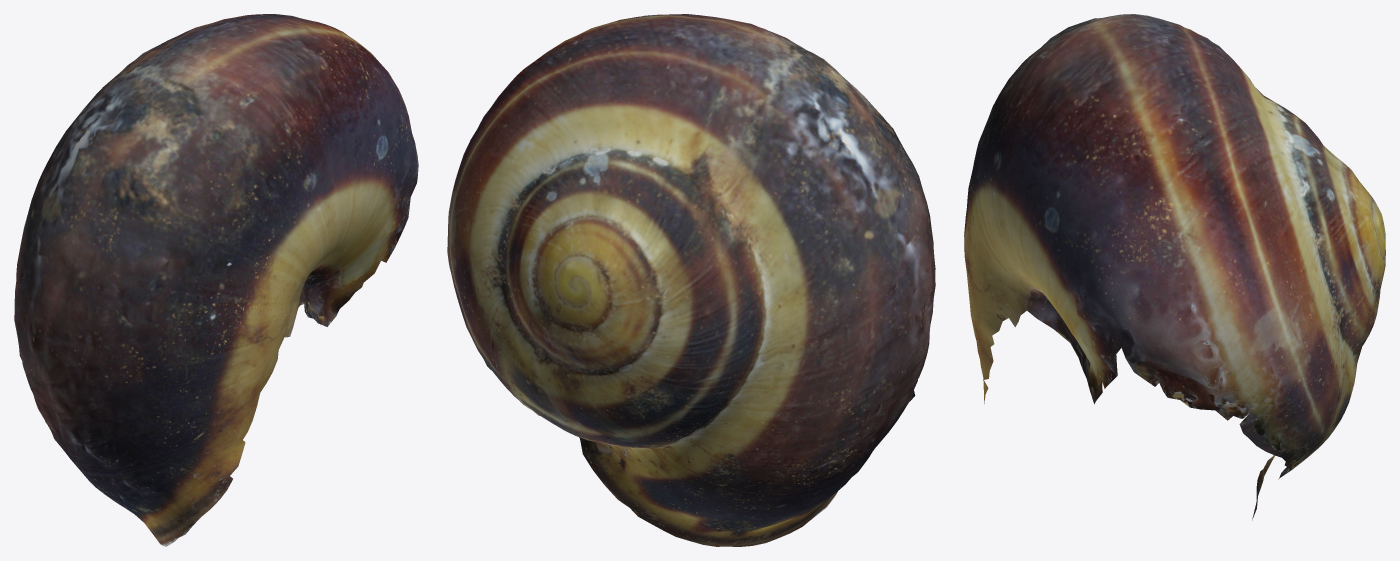
File: fauna.glb
The picture shows the model from 3 angles, left to right: view 1: azimuth 30°, elevation 25°; view 2: azimuth 150°, elevation 25°; view 3: azimuth 270°, elevation 25°; orthographic projection. The views are drawn at different scales.
Visible parts, largest first — view 1: Snail shell; view 2: Snail shell; view 3: Snail shell.
Boxes of the visible parts, left/top/right/bottom form: Snail shell: left=14, top=14, right=418, bottom=546; Snail shell: left=447, top=14, right=935, bottom=546; Snail shell: left=964, top=14, right=1385, bottom=520.
Bounding box in the file's own units: 0.3878 × 0.4455 × 0.3165.
Materials: 1 (1 with a texture image).
